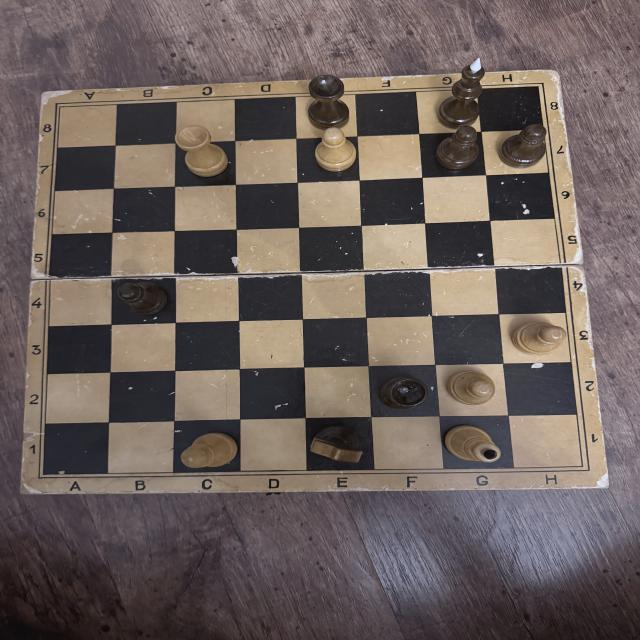black-king: (438, 58, 487, 128)
black-knight: (308, 427, 366, 464)
black-pawn: (498, 125, 549, 167), (115, 281, 170, 317), (435, 127, 482, 169)
black-rook: (306, 75, 352, 131), (374, 372, 431, 410)
white-bishop: (177, 431, 241, 470)
white-king: (445, 425, 501, 465)
white-pawn: (312, 128, 359, 175), (510, 320, 566, 354), (450, 372, 496, 405)
white-rook: (173, 123, 230, 178)
